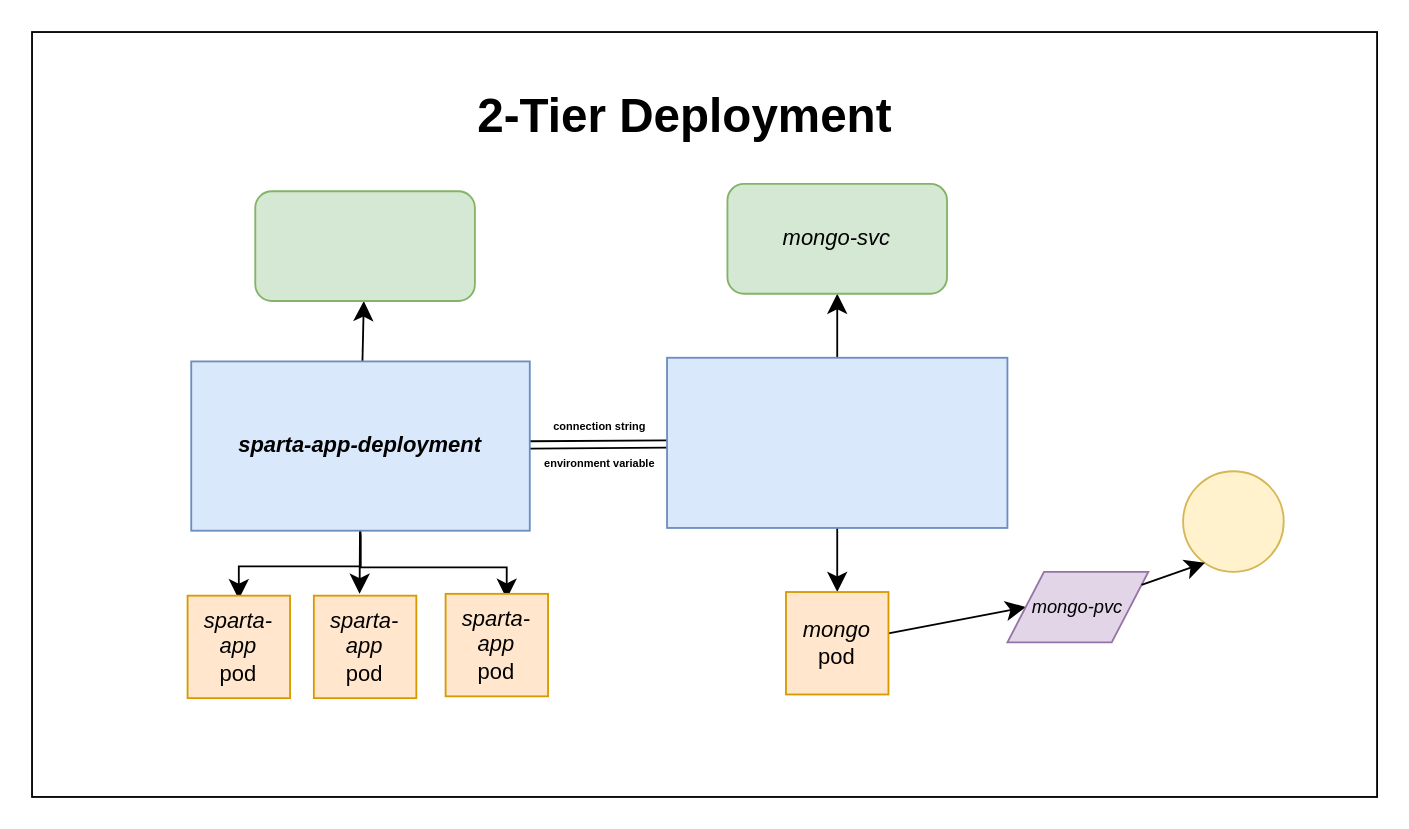
Image size: 1409x829. Some labels were removed from this diagram. The shapes that lost their labels are listed below. From the top down, each one's centre as x and y in pixels, then its label:
At point 364,245: "sparta-svc".
At point 836,442: "mongo-deployment".
At point 1232,520: "mongo-pv".
